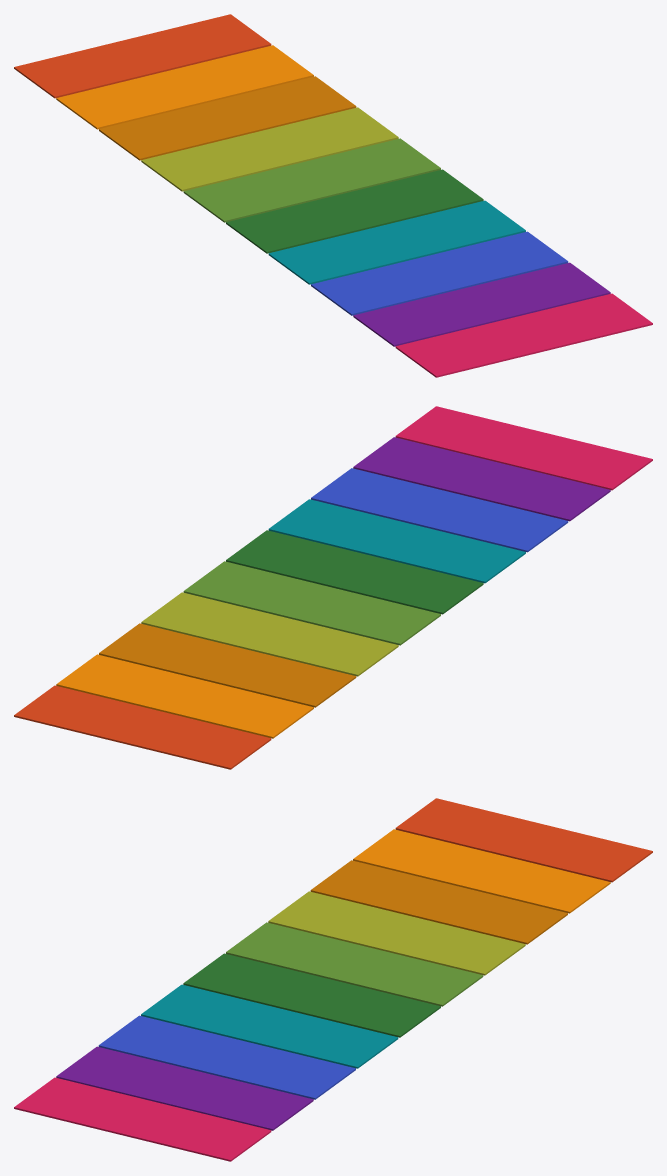
The model's file is MainPieceV2_Score.fbx.
The picture shows the model from 3 angles, top to bottom: view 1: azimuth 30°, elevation 25°; view 2: azimuth 150°, elevation 25°; view 3: azimuth 330°, elevation 25°; orthographic projection.
Parts seen in each view (by area): view 1: Mark5, Mark10, Mark3, Mark6, Mark2, Mark1, Mark4, Mark7, Mark8, Mark9; view 2: Mark1, Mark3, Mark5, Mark6, Mark4, Mark7, Mark8, Mark2, Mark9, Mark10; view 3: Mark5, Mark10, Mark3, Mark6, Mark2, Mark1, Mark4, Mark7, Mark8, Mark9.
Boxes of the visible parts, x1,y1,x2,y2 form: Mark5: [183, 138, 440, 222]; Mark10: [395, 293, 652, 377]; Mark3: [99, 76, 356, 160]; Mark6: [226, 169, 483, 253]; Mark2: [56, 45, 313, 129]; Mark1: [14, 14, 271, 98]; Mark4: [141, 107, 398, 191]; Mark7: [268, 200, 525, 284]; Mark8: [311, 231, 568, 315]; Mark9: [353, 262, 610, 346]; Mark1: [14, 685, 271, 769]; Mark3: [99, 623, 356, 707]; Mark5: [183, 561, 440, 645]; Mark6: [226, 530, 483, 614]; Mark4: [141, 592, 398, 676]; Mark7: [268, 499, 525, 583]; Mark8: [311, 468, 568, 552]; Mark2: [56, 654, 313, 738]; Mark9: [353, 437, 610, 521]; Mark10: [395, 406, 652, 490]; Mark5: [226, 922, 483, 1006]; Mark10: [14, 1077, 271, 1161]; Mark3: [310, 860, 567, 944]; Mark6: [183, 953, 440, 1037]; Mark2: [353, 829, 610, 913]; Mark1: [395, 798, 652, 882]; Mark4: [268, 891, 525, 975]; Mark7: [141, 984, 398, 1068]; Mark8: [98, 1015, 355, 1099]; Mark9: [56, 1046, 313, 1130].
Bounding box in the file's own units: 392 × 2.87 × 1322.
Materials: 1 (1 with a texture image).
